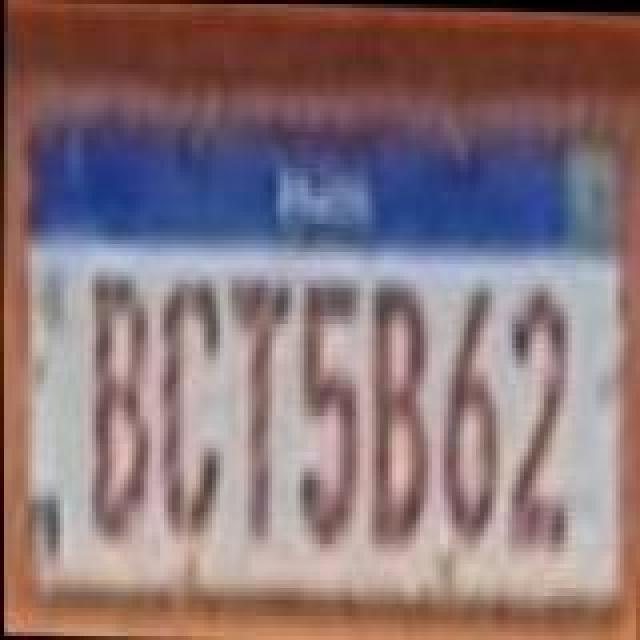2: (502, 280, 570, 564)
5: (294, 274, 362, 558)
6: (434, 282, 502, 550)
B: (366, 276, 434, 560), (88, 272, 152, 540)
C: (156, 278, 228, 546)
T: (222, 274, 290, 542)
